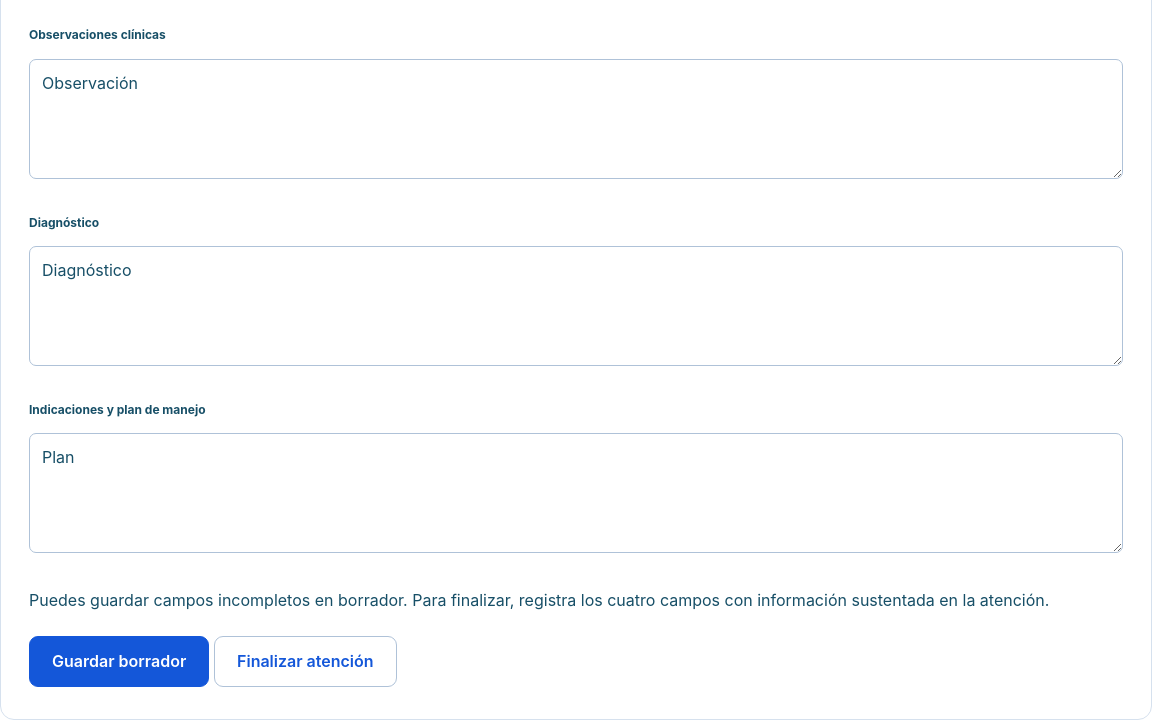
Test: finalizar un borrador pide confirmación sin enviar accidentalmente el formulario
The image size is (1152, 720).
Later steps or results of the test are not shown.
(page scrolled)
Click the button "Finalizar atención".
click(305, 661)  # box [214,636,396,687]
(page scrolled)
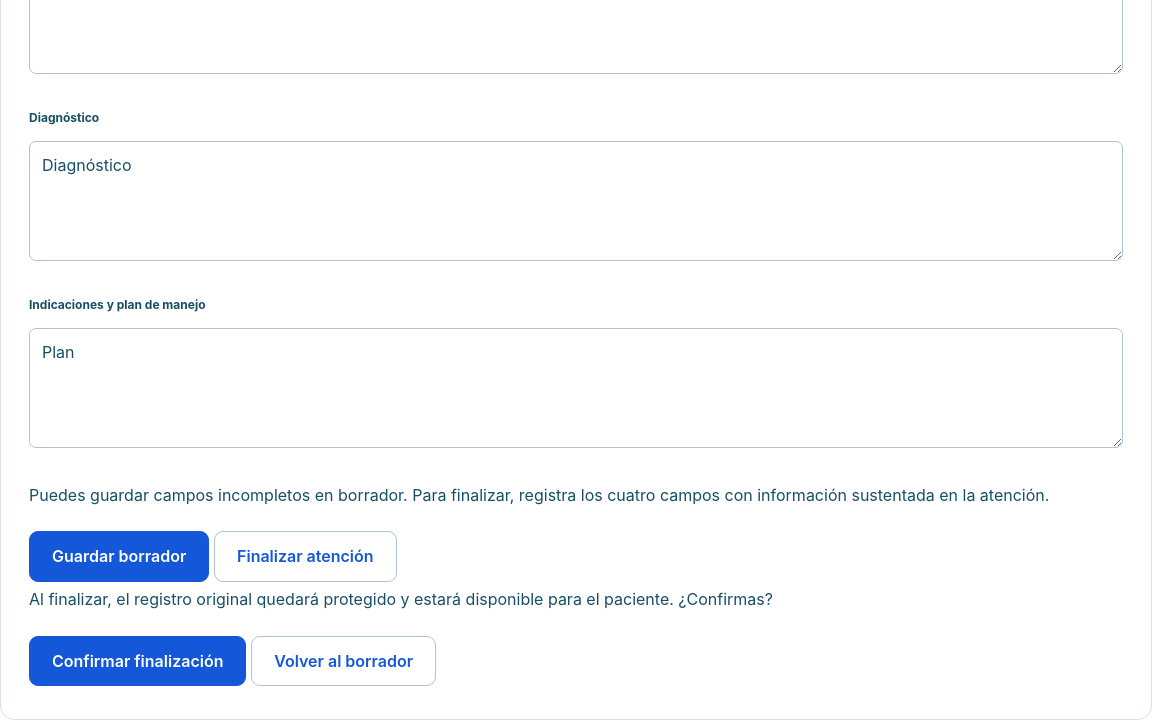
Check: the dialog is shown, box [29,589,773,686]
